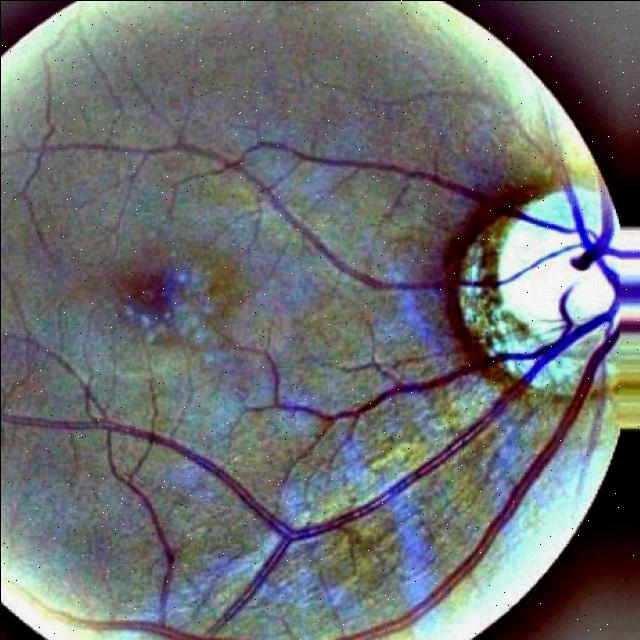Macula: (0, 140, 640, 640)
